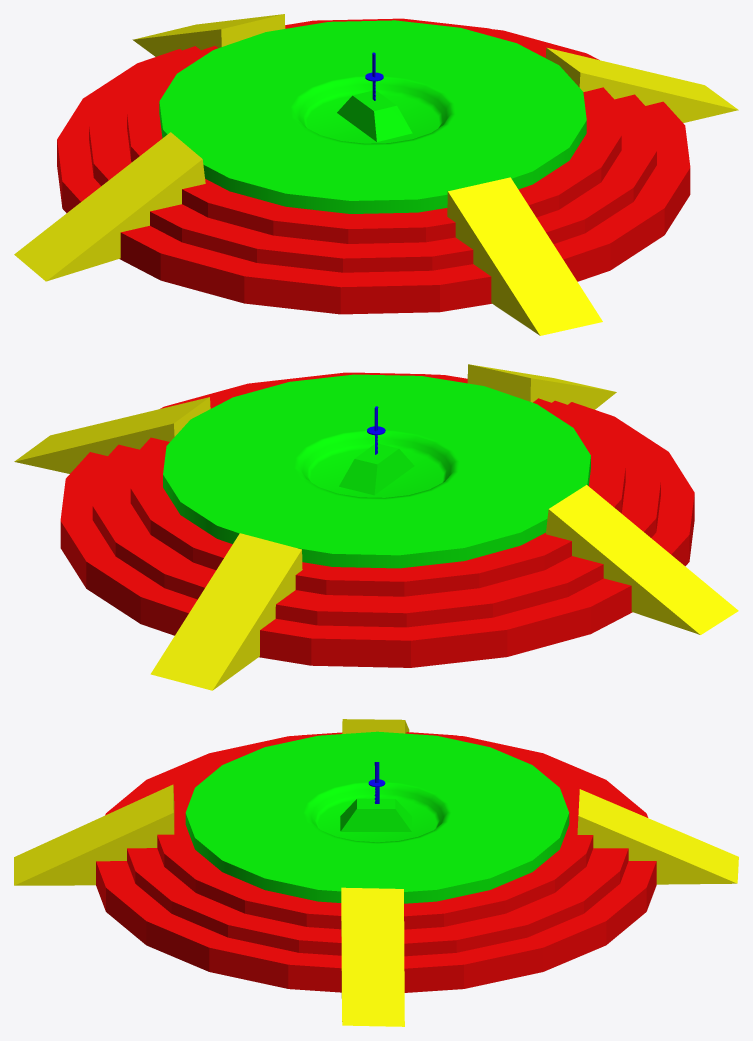
File: Altar_low.fbx
The picture shows the model from 3 angles, top to bottom: view 1: azimuth 30°, elevation 25°; view 2: azimuth 150°, elevation 25°; view 3: azimuth 270°, elevation 25°; orthographic projection. The views are drawn at different scales.
Visible parts, largest first — view 1: Altar_piece_1, Altar_piece_4, Altar_piece_3, Altar_piece_2, Altar_piece_5, Altar_piece_6, Altar_piece_8, Altar_piece_7, Altar_pedastal; view 2: Altar_piece_1, Altar_piece_4, Altar_piece_3, Altar_piece_2, Altar_piece_7, Altar_piece_6, Altar_piece_8, Altar_piece_5, Altar_pedastal; view 3: Altar_piece_1, Altar_piece_4, Altar_piece_3, Altar_piece_2, Altar_piece_8, Altar_piece_5, Altar_piece_7, Altar_pedastal, Altar_piece_6.
Part boxes in pixels (left/top/right/bottom): Altar_piece_1: left=159, top=20, right=586, bottom=213; Altar_piece_4: left=57, top=29, right=690, bottom=314; Altar_piece_3: left=89, top=18, right=656, bottom=272; Altar_piece_2: left=127, top=20, right=621, bottom=243; Altar_piece_5: left=447, top=177, right=602, bottom=335; Altar_piece_6: left=14, top=132, right=205, bottom=281; Altar_piece_8: left=545, top=47, right=738, bottom=122; Altar_piece_7: left=132, top=14, right=285, bottom=56; Altar_pedastal: left=337, top=90, right=412, bottom=141; Altar_piece_1: left=163, top=374, right=590, bottom=568; Altar_piece_4: left=60, top=372, right=694, bottom=667; Altar_piece_3: left=92, top=373, right=660, bottom=627; Altar_piece_2: left=130, top=372, right=625, bottom=596; Altar_piece_7: left=150, top=533, right=302, bottom=690; Altar_piece_6: left=546, top=485, right=738, bottom=634; Altar_piece_8: left=14, top=397, right=210, bottom=473; Altar_piece_5: left=467, top=364, right=616, bottom=409; Altar_pedastal: left=339, top=443, right=414, bottom=495; Altar_piece_1: left=185, top=731, right=569, bottom=903; Altar_piece_4: left=96, top=735, right=656, bottom=992; Altar_piece_3: left=127, top=732, right=628, bottom=956; Altar_piece_2: left=157, top=732, right=593, bottom=929; Altar_piece_8: left=341, top=887, right=404, bottom=1026; Altar_piece_5: left=14, top=784, right=174, bottom=885; Altar_piece_7: left=577, top=789, right=738, bottom=884; Altar_pedastal: left=340, top=798, right=411, bottom=831; Altar_piece_6: left=342, top=719, right=409, bottom=733.
Size of the model in its own units: 1955 by 356 by 1989.
